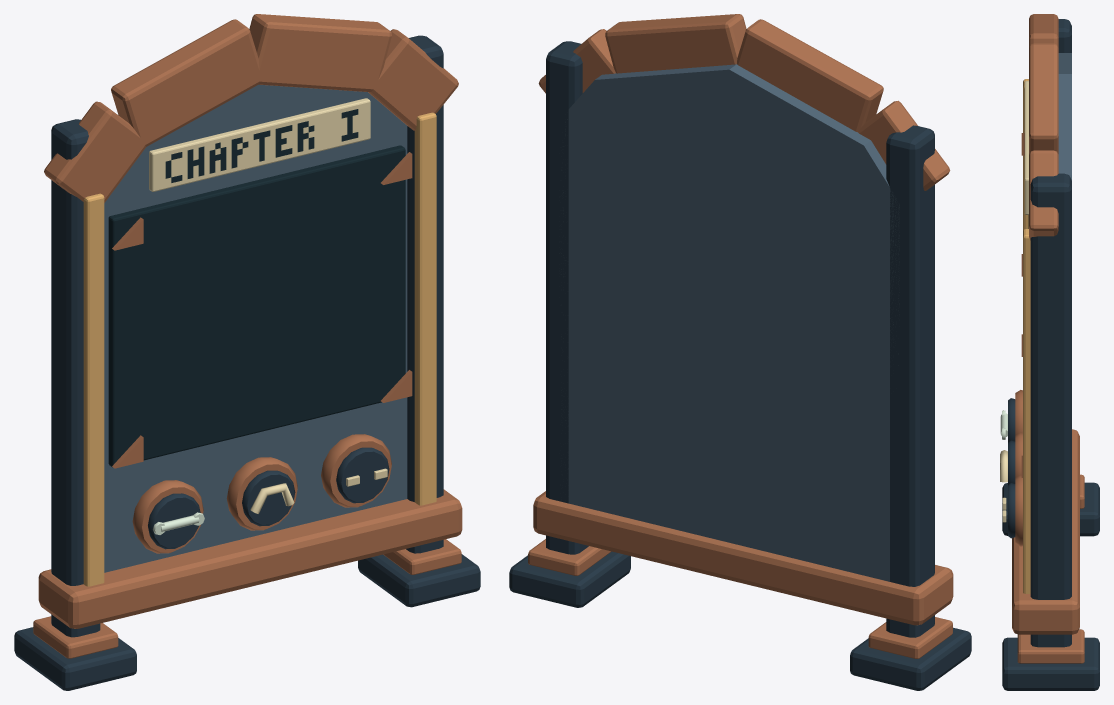
3 views of the same model, side by side, from view 1: azimuth 30°, elevation 25°; view 2: azimuth 150°, elevation 25°; view 3: azimuth 270°, elevation 25° (orthographic). The views are drawn at different scales.
Visible parts, largest first — view 1: PR115 enamel and hardware; view 2: PR115 enamel and hardware; view 3: PR115 enamel and hardware.
Part boxes in pixels (<box>): PR115 enamel and hardware: <box>14,14,480,690</box>; PR115 enamel and hardware: <box>509,14,971,690</box>; PR115 enamel and hardware: <box>1000,14,1099,690</box>.
Bounding box in the file's own units: 1.37 × 1.9 × 0.3071.
